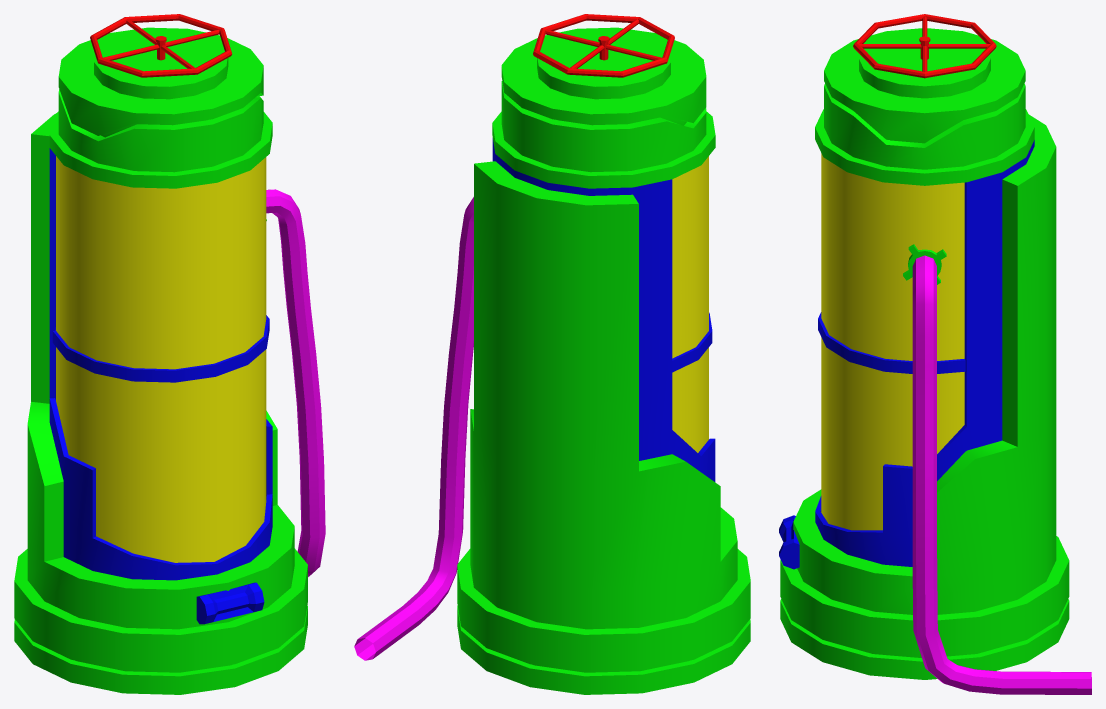
The model's file is human_pod_export.fbx.
3 views of the same model, side by side, from view 1: azimuth 30°, elevation 25°; view 2: azimuth 150°, elevation 25°; view 3: azimuth 270°, elevation 25° (orthographic). The views are drawn at different scales.
Visible parts, largest first — view 1: pCylinder7, pCylinder1, pCylinder2, pPipe1, pCylinder5, pCylinder16, pTorus3, pCylinder6; view 2: pCylinder1, pCylinder2, pPipe1, pCylinder5, pCylinder7, pTorus3, pCylinder16; view 3: pCylinder1, pCylinder7, pCylinder2, pPipe1, pCylinder5, pTorus3, pCylinder16, pCylinder6, pCylinder21.
Part boxes in pixels (x1=…): pCylinder7: x1=56, y1=156, x2=266, y2=562; pCylinder1: x1=14, y1=114, x2=307, y2=694; pCylinder2: x1=49, y1=27, x2=272, y2=188; pPipe1: x1=49, y1=148, x2=272, y2=580; pCylinder5: x1=266, y1=189, x2=325, y2=576; pCylinder16: x1=52, y1=315, x2=269, y2=382; pTorus3: x1=90, y1=14, x2=231, y2=77; pCylinder6: x1=196, y1=582, x2=264, y2=624; pCylinder1: x1=457, y1=161, x2=750, y2=694; pCylinder2: x1=492, y1=27, x2=715, y2=188; pPipe1: x1=492, y1=138, x2=715, y2=481; pCylinder5: x1=354, y1=197, x2=473, y2=660; pCylinder7: x1=672, y1=156, x2=708, y2=452; pTorus3: x1=533, y1=14, x2=674, y2=77; pCylinder16: x1=672, y1=312, x2=712, y2=372; pCylinder1: x1=780, y1=114, x2=1069, y2=679; pCylinder7: x1=821, y1=153, x2=964, y2=530; pCylinder2: x1=815, y1=28, x2=1034, y2=185; pPipe1: x1=815, y1=140, x2=1034, y2=566; pCylinder5: x1=912, y1=255, x2=1091, y2=694; pTorus3: x1=853, y1=14, x2=996, y2=78; pCylinder16: x1=818, y1=312, x2=965, y2=373; pCylinder6: x1=779, y1=515, x2=799, y2=569; pCylinder21: x1=903, y1=244, x2=946, y2=284.
Size of the model in its own units: 143 by 278 by 135.
